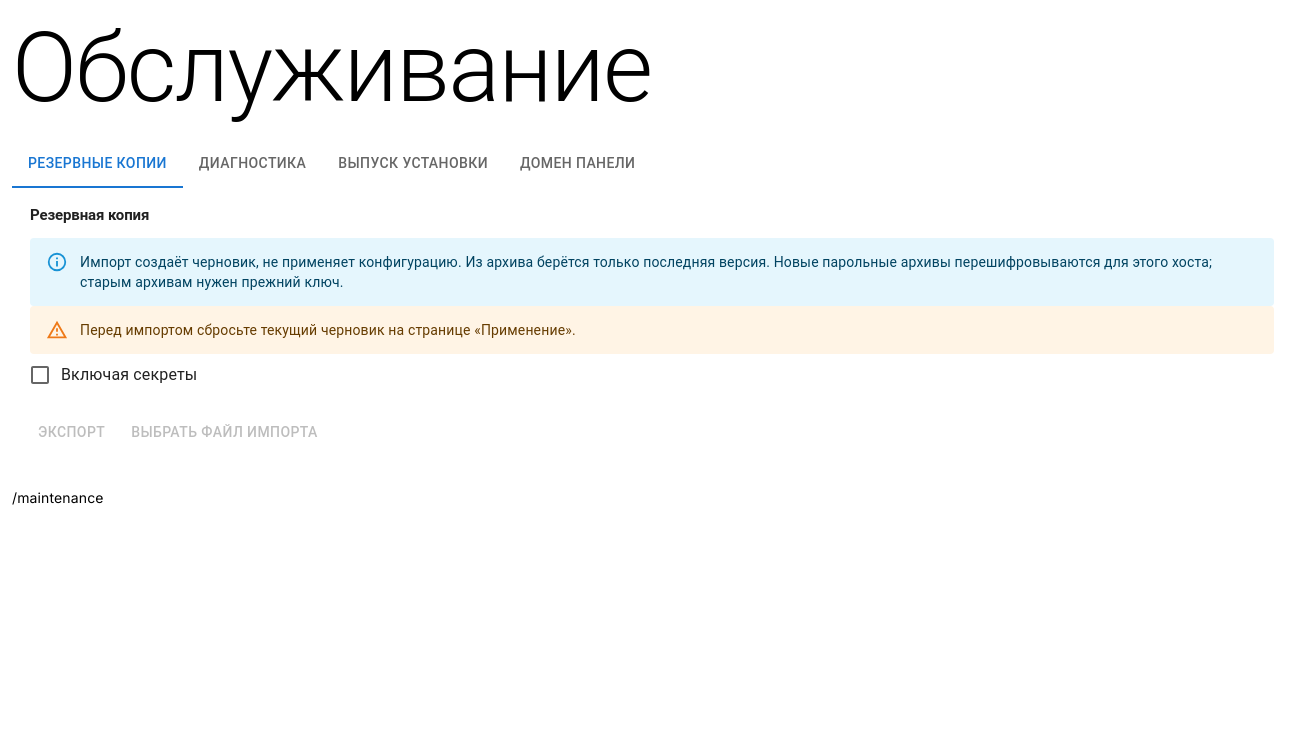
Test case: keeps the bare backup URL and deep-links diagnostic and release tabs
expect the text with test id "location" reads "/maintenance": met, box [12,489,104,506]
expect the text "Импорт создаёт черновик" is shown: met, box [80,254,1212,290]
Click the tab "Диагностика" at (253, 164), box [183,140,322,188]
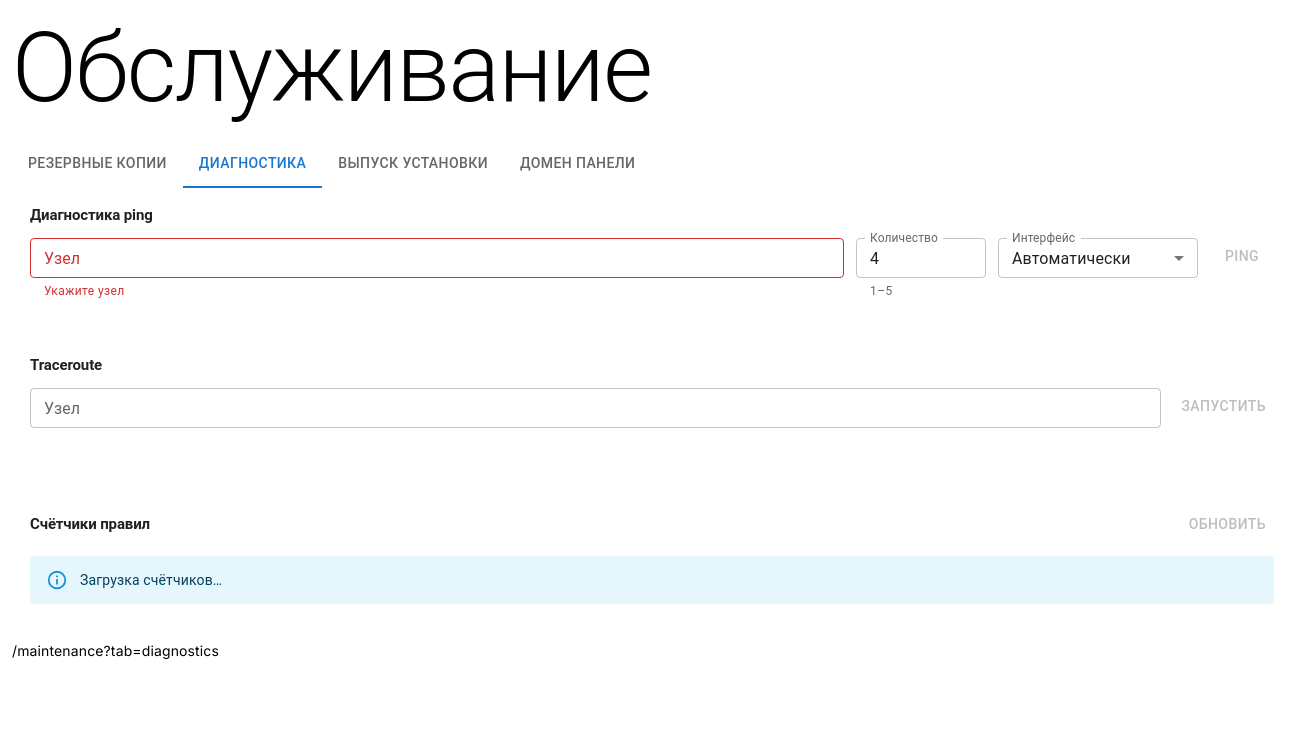
expect the text with test id "location" reads "/maintenance?tab=diagnostics": met, box [12,642,219,659]
Click the tab "Выпуск установки" at (413, 164), box [322,140,504,188]
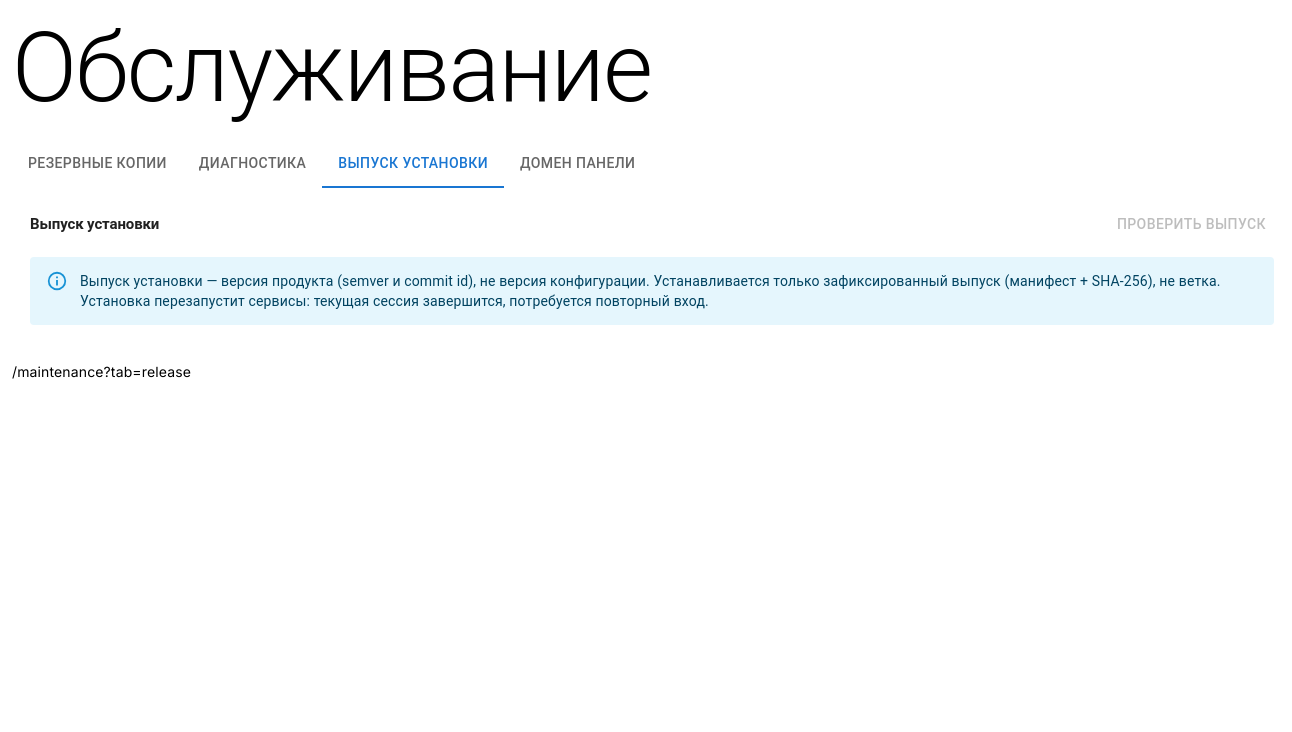
expect the text with test id "location" reads "/maintenance?tab=release": met, box [12,363,191,380]
Click the tab "Резервные копии" at (97, 164), box [12,140,183,188]
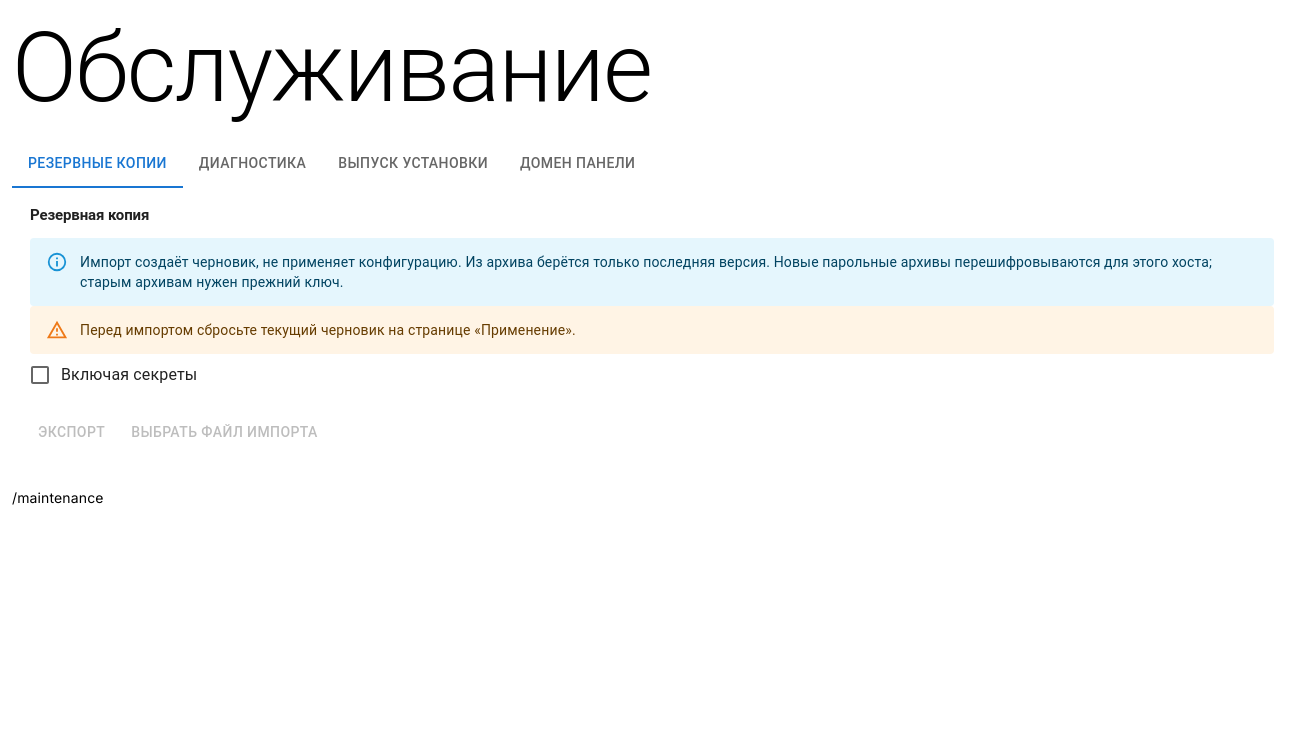
expect the text with test id "location" reads "/maintenance": met, box [12,489,104,506]
